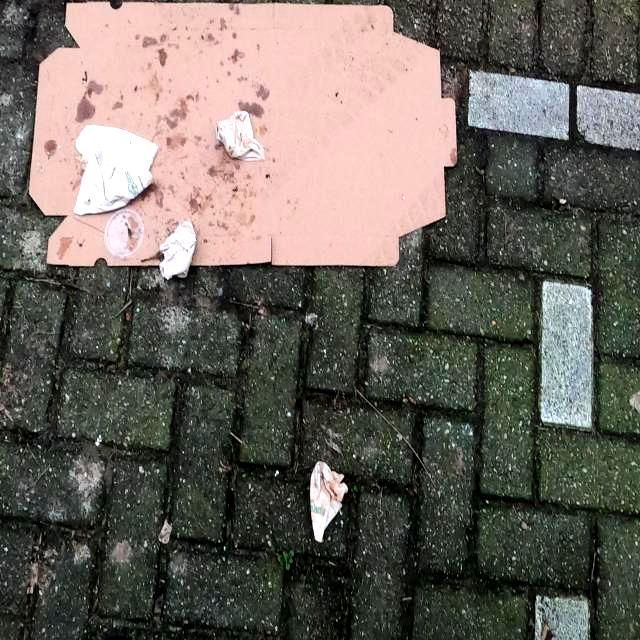Paper: (72, 124, 160, 216), (309, 461, 349, 544), (214, 109, 266, 163), (158, 218, 198, 280)
